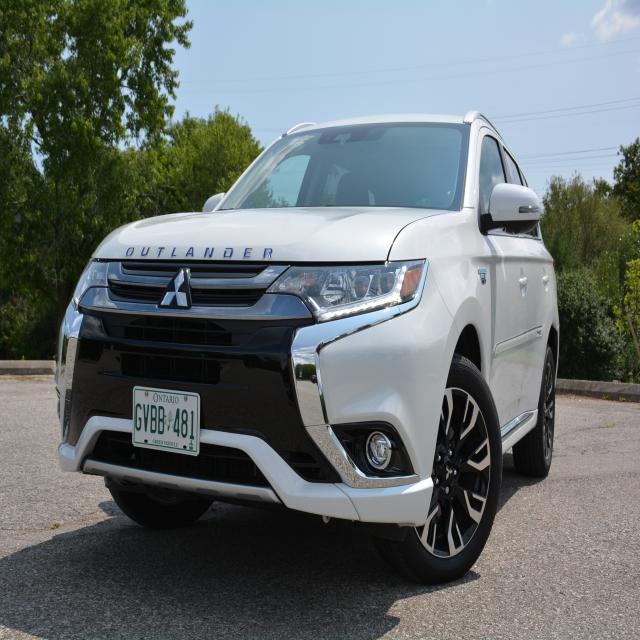light_vehicle: (56, 111, 562, 584)
